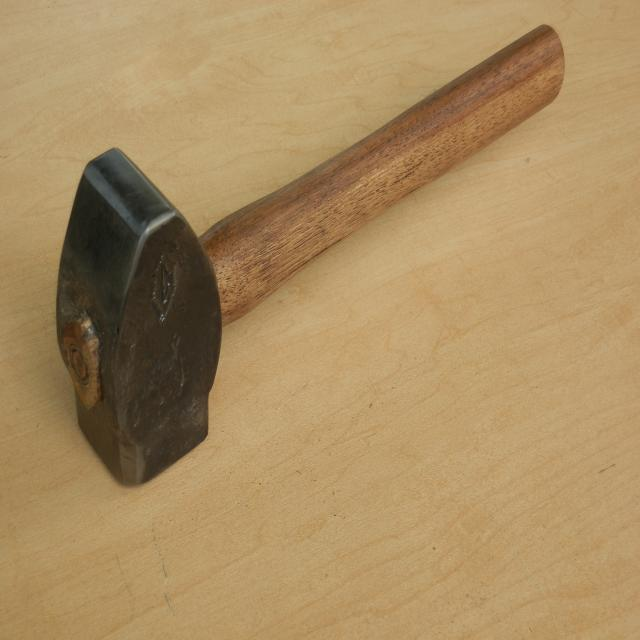hammer: (35, 7, 580, 494)
